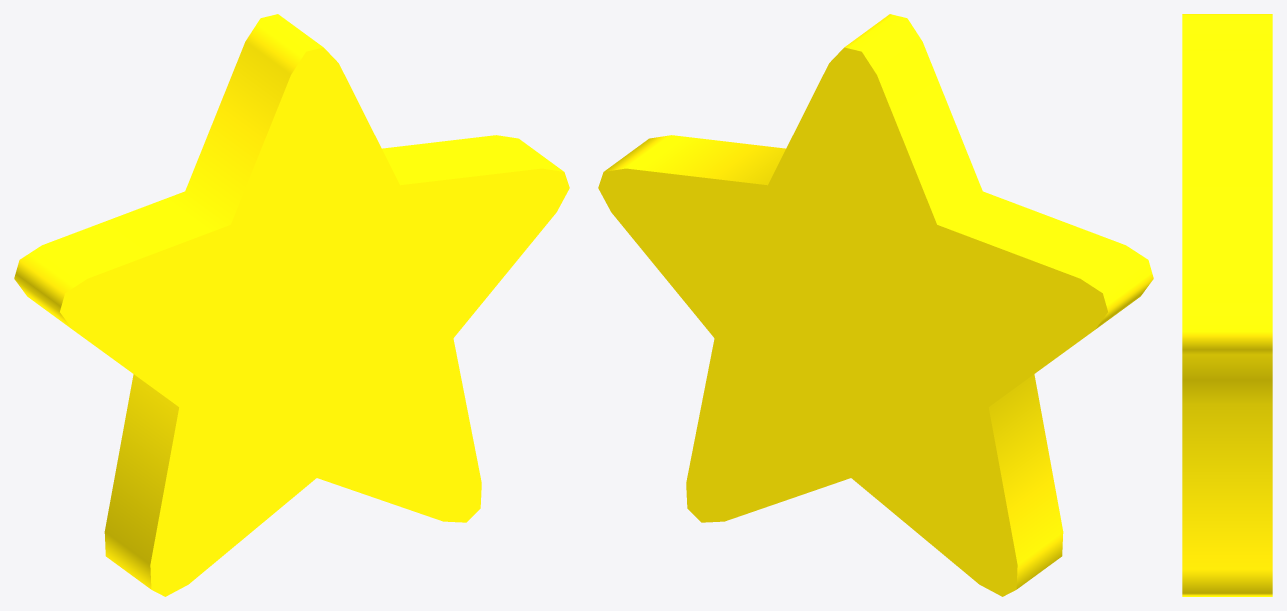
Rendered from yellow_star.glb.
The picture shows the model from 3 angles, left to right: view 1: azimuth 30°, elevation 25°; view 2: azimuth 150°, elevation 25°; view 3: azimuth 270°, elevation 25°; orthographic projection.
Visible parts, largest first — view 1: Yellow_Star; view 2: Yellow_Star; view 3: Yellow_Star.
Boxes of the visible parts, x1,y1,x2,y2 form: Yellow_Star: (14, 14, 569, 596); Yellow_Star: (598, 14, 1153, 596); Yellow_Star: (1182, 14, 1272, 596).
Bounding box in the file's own units: 0.5787 × 0.5539 × 0.0897.
